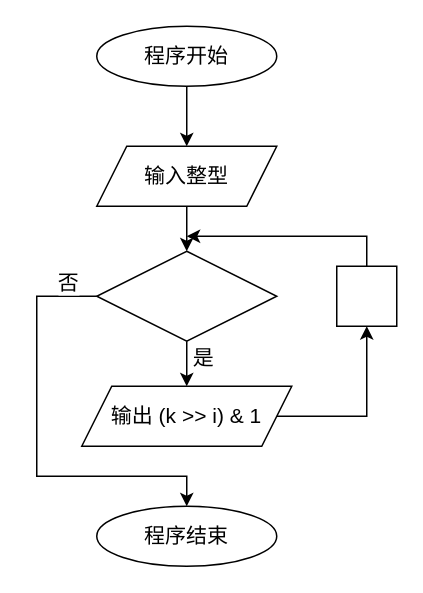
Some shapes in this 423 by 593 pixel diagram are drawn without their labels. The shapes that lost their labels are listed below. From the top down, each one's centre as x and y in pixels, then its label:
pixel 186 295: i = 31 i >= 0
pixel 366 295: i --
